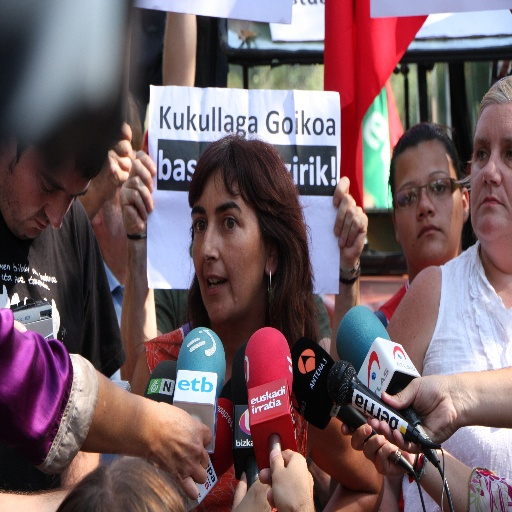hand: (368, 375, 461, 453), (148, 402, 212, 500), (340, 422, 422, 477), (259, 448, 317, 511), (332, 176, 368, 273), (94, 120, 135, 202), (230, 472, 274, 511)
